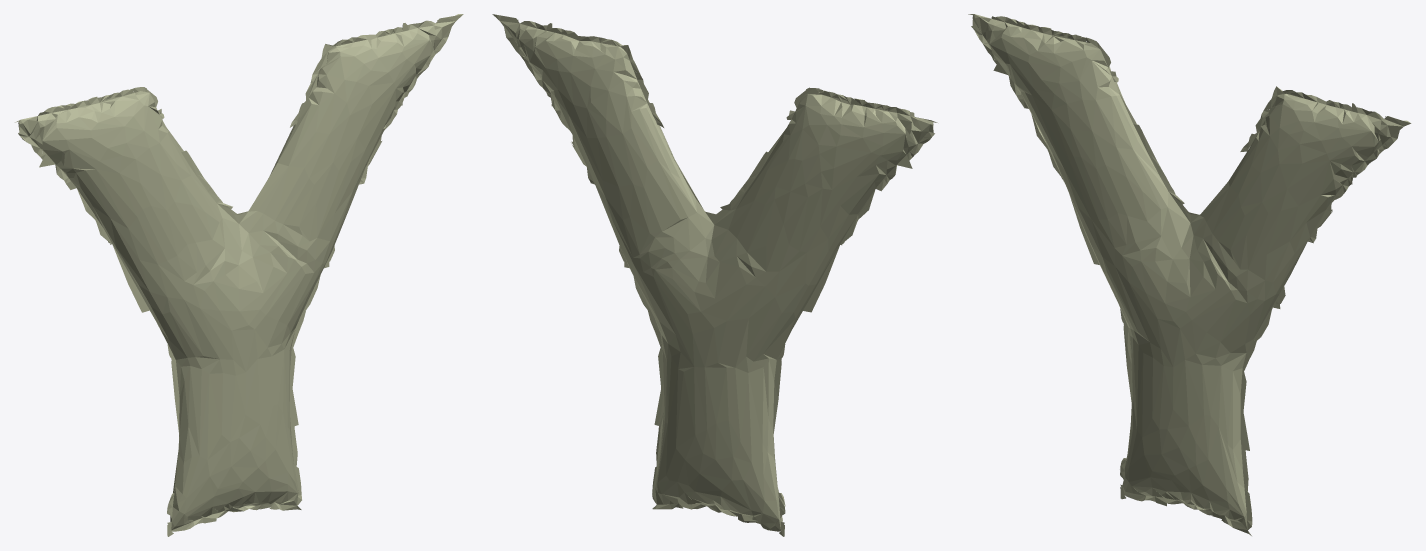
Rendered from tinker.obj.
3 renders of one model, left to right at view 1: azimuth 30°, elevation 25°; view 2: azimuth 150°, elevation 25°; view 3: azimuth 330°, elevation 25°, orthographic.
Visible parts, largest first — view 1: obj_0; view 2: obj_0; view 3: obj_0.
Boxes of the visible parts, x1=… form: obj_0: x1=15, y1=14, x2=463, y2=536; obj_0: x1=492, y1=14, x2=937, y2=536; obj_0: x1=968, y1=14, x2=1411, y2=535.
Size of the model in its own units: 15.48 by 15.27 by 1.59.
